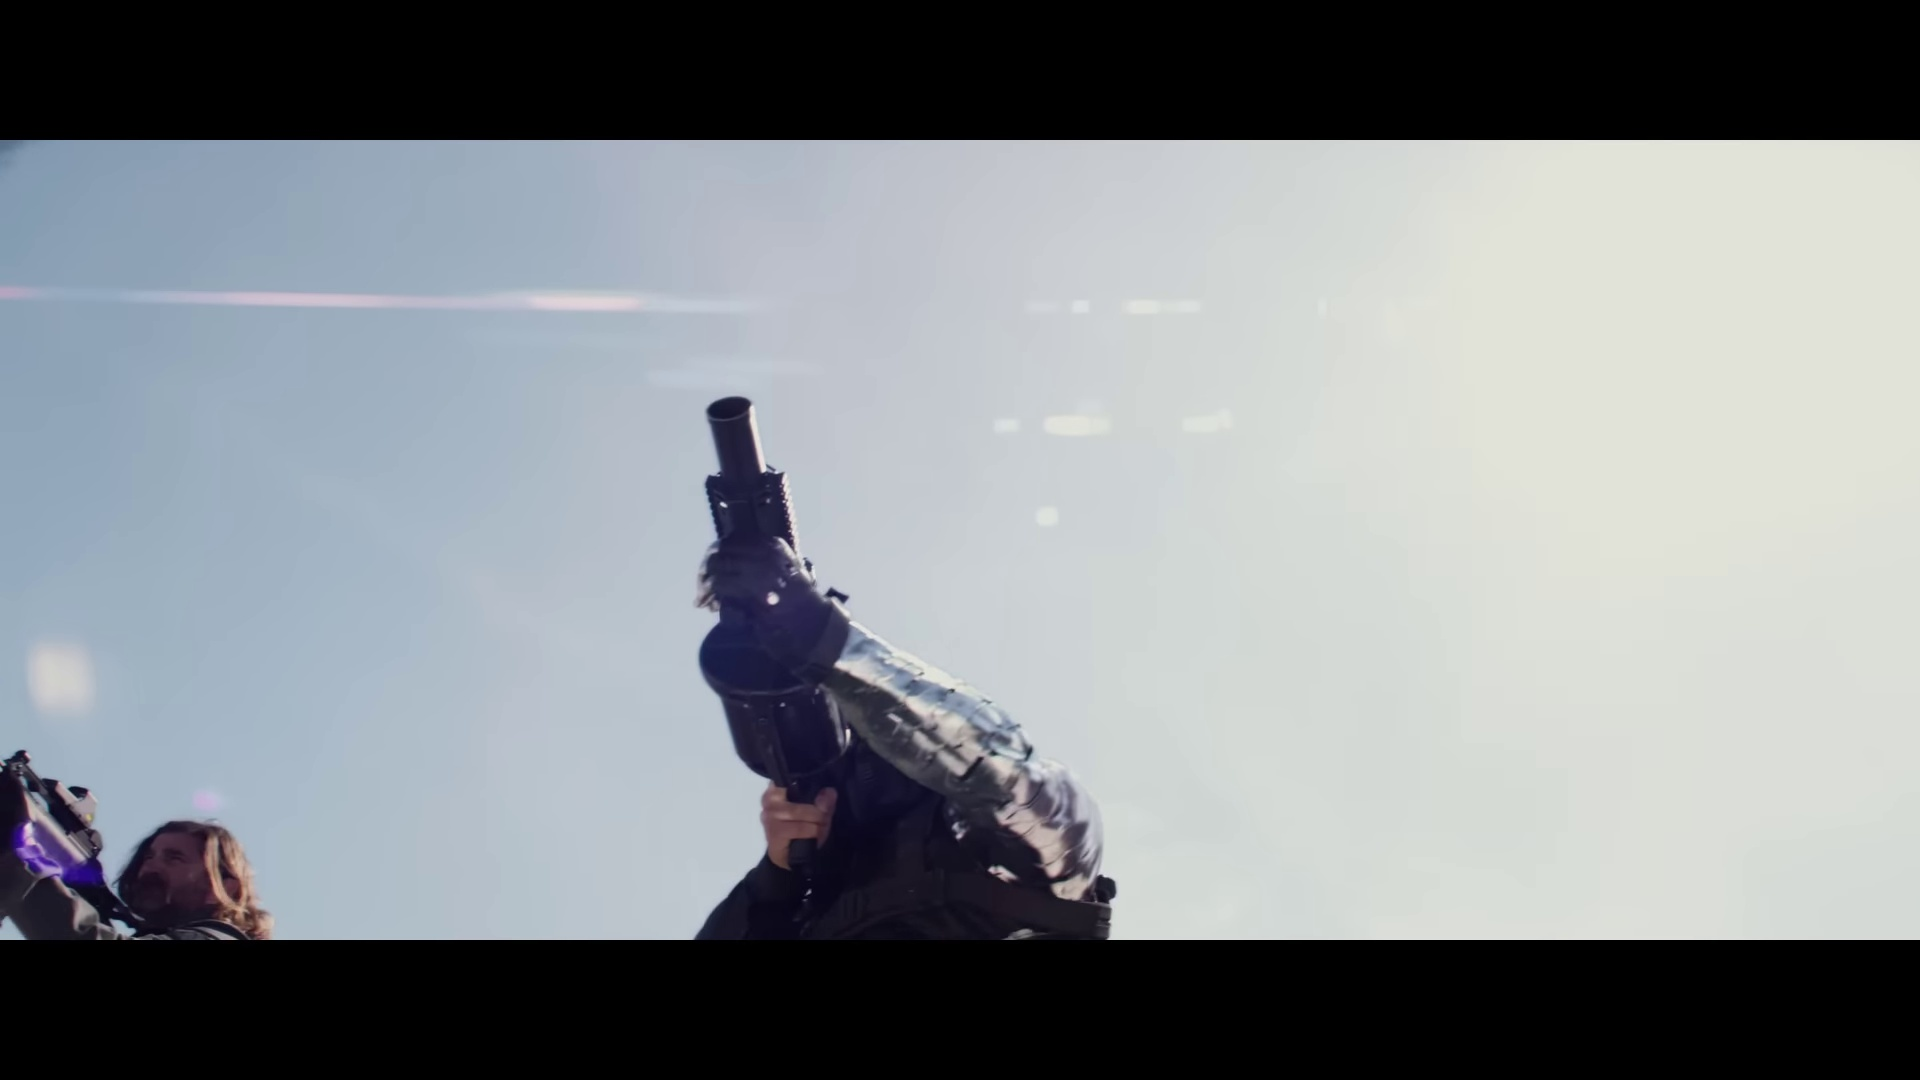gun: (691, 386, 868, 920), (0, 746, 144, 932)
p_w_gun: (666, 397, 1112, 942), (0, 741, 272, 944)
